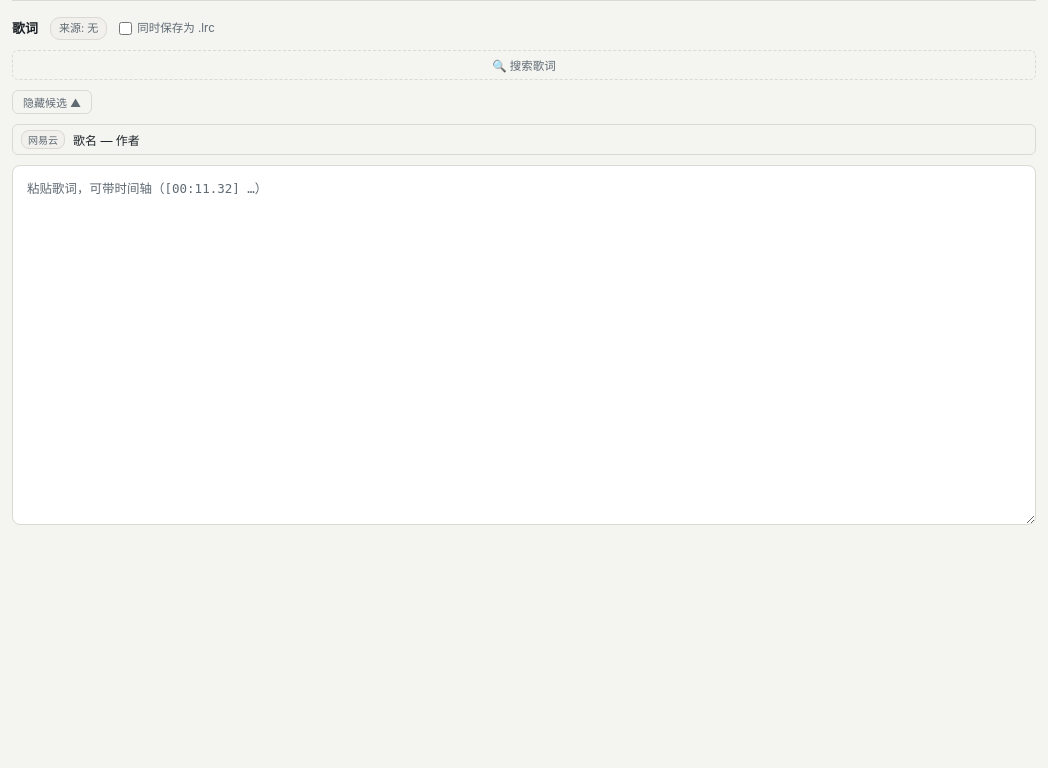
Test: LyricPanel — 候选区折叠（candidate-collapse：默认展开、点击折叠、切歌后重置展开） › 重新展开 → .cand-wrap 恢复显示、按钮文案「隐藏候选 ▲」
The width and height of the screenshot is (1048, 768).
Click the button with class "cand-toggle" at [52, 102], box x1=12 y1=90 x2=92 y2=114
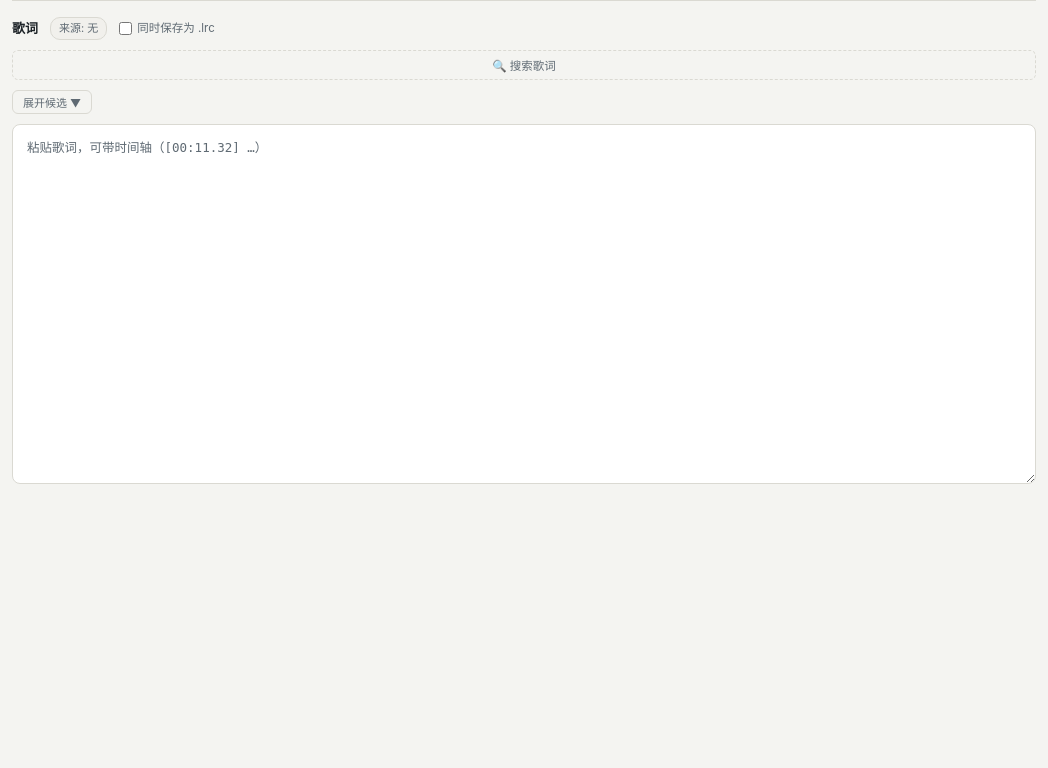
Click the button with class "cand-toggle" at [52, 102], box x1=12 y1=90 x2=92 y2=114
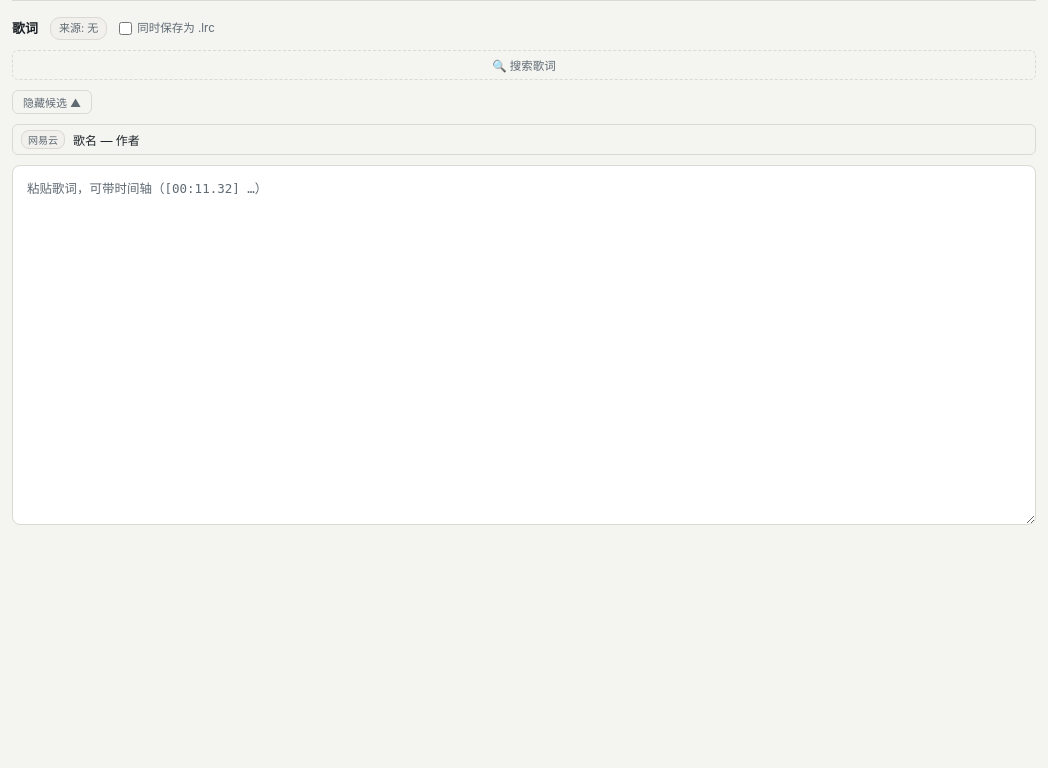
Expected: the button with class "cand-toggle" shows "隐藏候选", x1=12 y1=90 x2=92 y2=114
